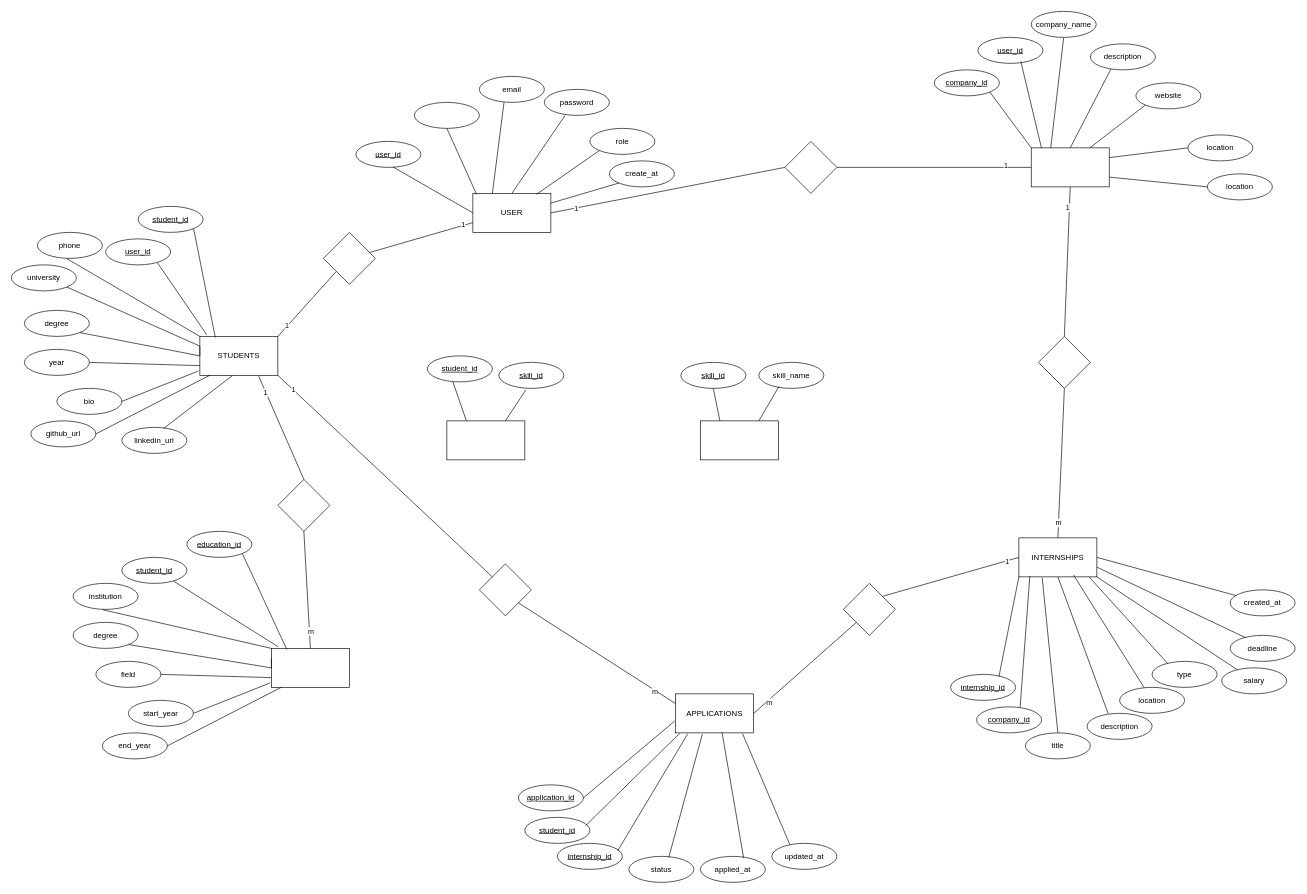
This 1307x894 diagram has some shape labels left out. Here are the shapes that lost their labels. From the top down, the centre of each, then its label:
the point at 446,115: name
the point at 1070,167: COMPANY
the point at 1064,362: post
the point at 485,440: STUDENT_SKILLS
the point at 739,440: SKILLS
the point at 303,505: have
the point at 505,589: apply
the point at 869,609: receive
the point at 310,667: EDUCATION
